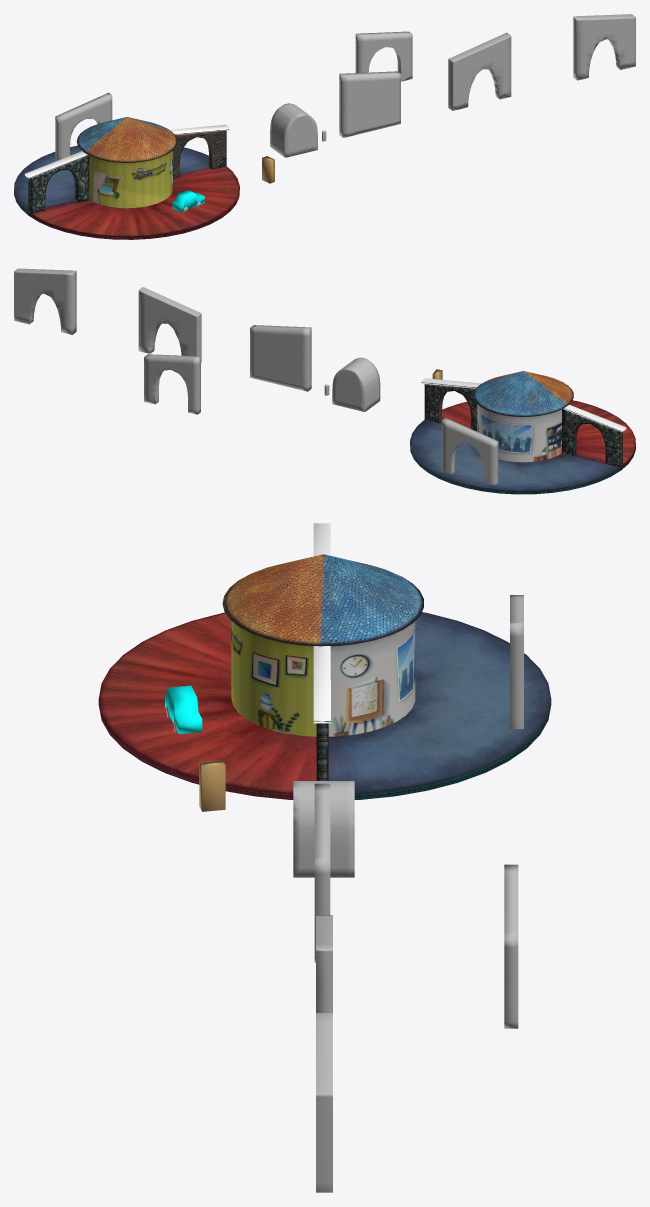
File: Set_anim_Test_05 Bake_anim GLB.glb
3 views of the same model, one above another, from view 1: azimuth 30°, elevation 25°; view 2: azimuth 150°, elevation 25°; view 3: azimuth 270°, elevation 25° (orthographic). The views are drawn at different scales.
Visible parts, largest first — view 1: polySurface36, polySurface34, pCube5, polySurface7, polySurface6, pCube14, polySurface17, polySurface18, polySurface37, polySurface28, polySurface22_2, polySurface35 (+1 smaller); view 2: polySurface36, polySurface34, pCube5, polySurface6, polySurface7, pCube14, polySurface17, polySurface18, polySurface37, polySurface32, polySurface35, polySurface33; view 3: polySurface36, polySurface34, pCube14, polySurface6, polySurface17, pCube5, polySurface18, polySurface7, polySurface22_2, polySurface33, pCube3.
Boxes of the visible parts, left/top/right/bottom form: polySurface36: left=14, top=145, right=239, bottom=239; polySurface34: left=76, top=117, right=177, bottom=208; pCube5: left=339, top=71, right=400, bottom=137; polySurface7: left=448, top=32, right=511, bottom=110; polySurface6: left=573, top=14, right=635, bottom=80; pCube14: left=270, top=103, right=317, bottom=157; polySurface17: left=355, top=31, right=412, bottom=81; polySurface18: left=55, top=92, right=112, bottom=159; polySurface37: left=28, top=155, right=89, bottom=213; polySurface28: left=173, top=130, right=226, bottom=179; polySurface22_2: left=172, top=190, right=204, bottom=211; polySurface35: left=24, top=151, right=88, bottom=178; polySurface36: left=410, top=400, right=635, bottom=494; polySurface34: left=473, top=371, right=573, bottom=462; pCube5: left=250, top=325, right=311, bottom=391; polySurface6: left=14, top=268, right=76, bottom=334; polySurface7: left=138, top=287, right=201, bottom=362; pCube14: left=332, top=357, right=380, bottom=411; polySurface17: left=144, top=354, right=200, bottom=414; polySurface18: left=441, top=417, right=498, bottom=484; polySurface37: left=562, top=409, right=622, bottom=467; polySurface32: left=424, top=384, right=477, bottom=431; polySurface35: left=563, top=404, right=626, bottom=432; polySurface33: left=421, top=378, right=481, bottom=388; polySurface36: left=98, top=612, right=551, bottom=799; polySurface34: left=222, top=554, right=423, bottom=736; pCube14: left=293, top=781, right=354, bottom=877; polySurface6: left=316, top=1013, right=332, bottom=1192; polySurface17: left=504, top=864, right=518, bottom=1028; pCube5: left=314, top=783, right=330, bottom=962; polySurface18: left=510, top=595, right=523, bottom=728; polySurface7: left=316, top=915, right=332, bottom=1012; polySurface22_2: left=165, top=685, right=202, bottom=734; polySurface33: left=313, top=646, right=330, bottom=723; pCube3: left=199, top=760, right=225, bottom=811.
Bounding box in the file's own units: 522 × 63.36 × 168.
7 materials, 3 textured.
